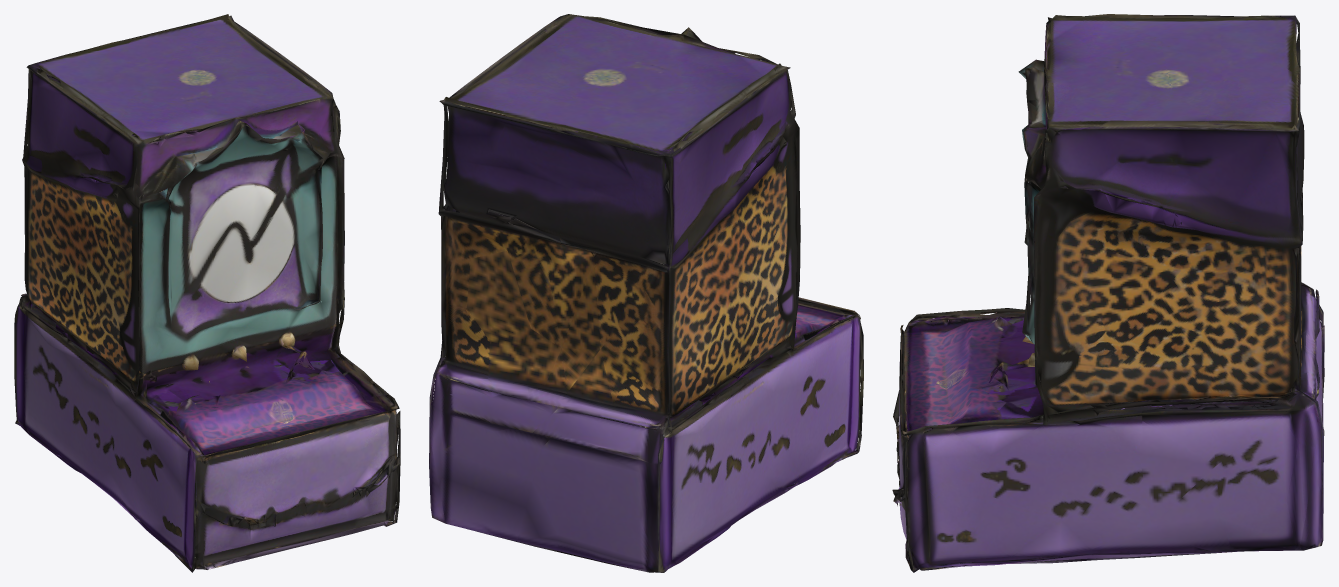
The model's file is Laterna_3D.glb.
3 views of the same model, side by side, from view 1: azimuth 30°, elevation 25°; view 2: azimuth 150°, elevation 25°; view 3: azimuth 270°, elevation 25° (orthographic). The views are drawn at different scales.
Visible parts, largest first — view 1: Mesh_0; view 2: Mesh_0; view 3: Mesh_0.
Part boxes in pixels (x1,y1,x2,y2): Mesh_0: (14,14,400,572); Mesh_0: (429,14,863,572); Mesh_0: (892,14,1324,572).
Bounding box in the file's own units: 1.17 × 1.99 × 1.73.
1 material, 1 textured.
